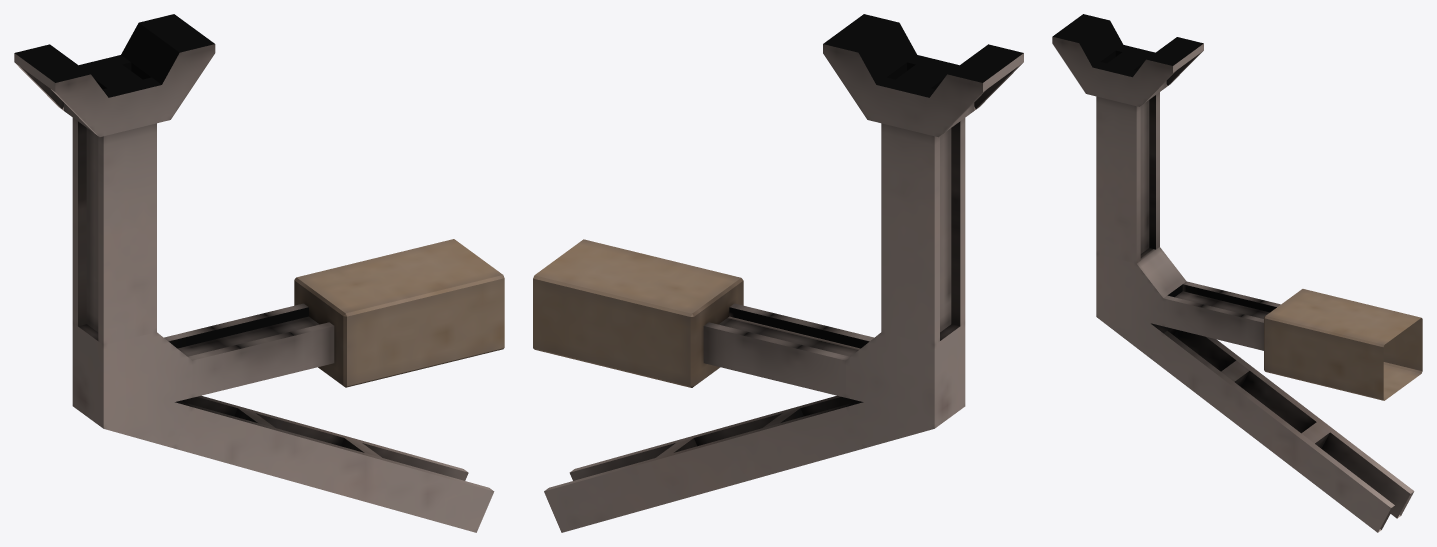
File: general_beam_single_track_walkway_support.obj
The picture shows the model from 3 angles, left to right: view 1: azimuth 30°, elevation 25°; view 2: azimuth 150°, elevation 25°; view 3: azimuth 330°, elevation 25°; orthographic projection. The views are drawn at different scales.
Parts seen in each view (by area): view 1: general_beam_single_track_walkway_support; view 2: general_beam_single_track_walkway_support; view 3: general_beam_single_track_walkway_support.
Part boxes in pixels (left/top/right/bottom): general_beam_single_track_walkway_support: left=14, top=14, right=504, bottom=532; general_beam_single_track_walkway_support: left=533, top=14, right=1023, bottom=532; general_beam_single_track_walkway_support: left=1052, top=14, right=1422, bottom=532.
Size of the model in its own units: 1.56 by 1.88 by 0.3157.
2 materials, 2 textured.
